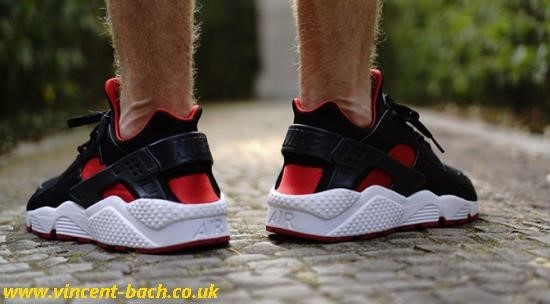Air Huarache Bred: (15, 70, 245, 261), (260, 72, 486, 251)
